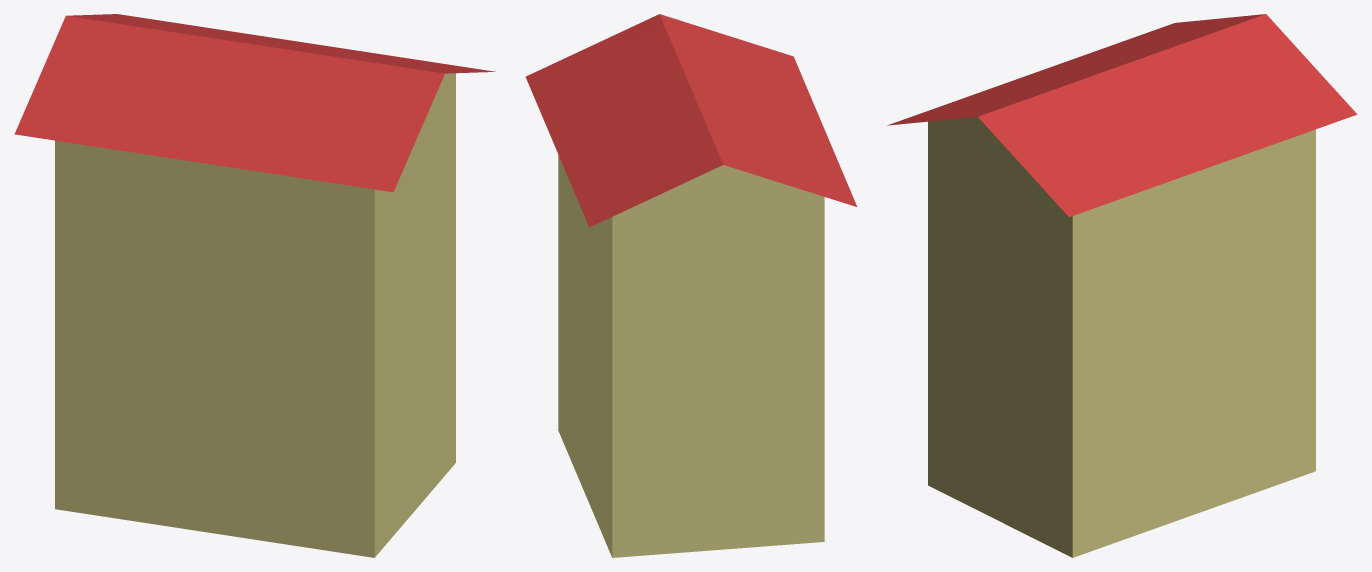
The picture shows the model from 3 angles, left to right: view 1: azimuth 30°, elevation 25°; view 2: azimuth 150°, elevation 25°; view 3: azimuth 270°, elevation 25°; orthographic projection. The views are drawn at different scales.
Visible parts, largest first — view 1: group_5, group_3, group_4; view 2: group_5, group_3, group_4; view 3: group_5, group_3, group_4.
Boxes of the visible parts, x1,y1,x2,y2 form: group_5: (55, 73, 455, 557); group_3: (15, 14, 454, 192); group_4: (16, 16, 495, 191); group_5: (558, 155, 824, 557); group_3: (529, 14, 856, 227); group_4: (525, 14, 856, 225); group_5: (928, 117, 1315, 557); group_3: (887, 14, 1357, 216); group_4: (894, 14, 1355, 216).
Bounding box in the file's own units: 7.79 × 7.98 × 7.71.
